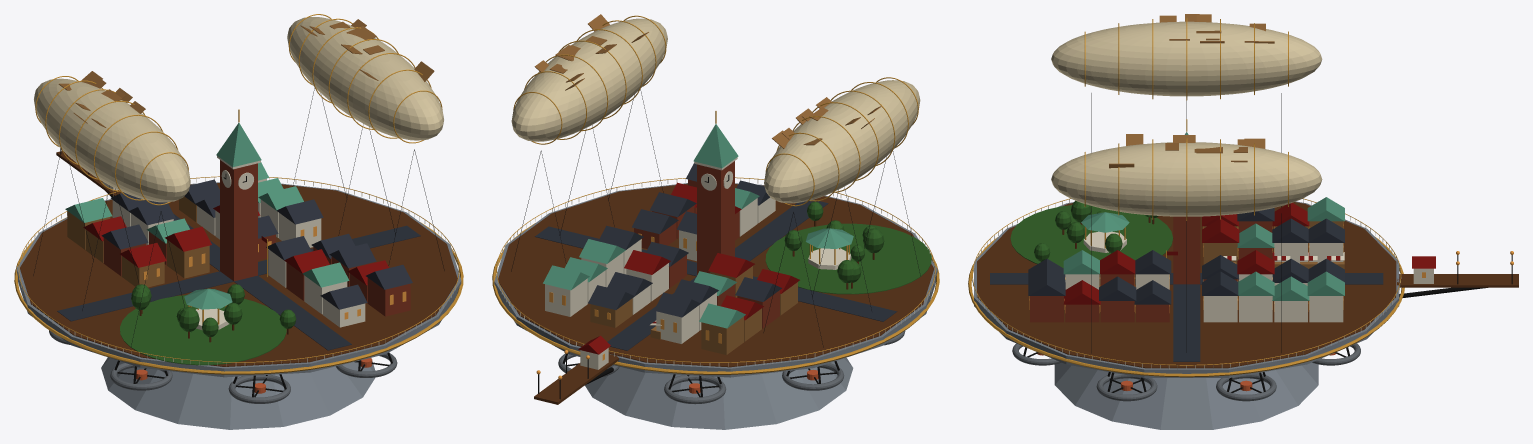
The model's file is station_civil.obj.
3 renders of one model, left to right at view 1: azimuth 30°, elevation 25°; view 2: azimuth 150°, elevation 25°; view 3: azimuth 270°, elevation 25°, orthographic. The views are drawn at different scales.
Parts seen in each view (by area): view 1: station_civil; view 2: station_civil; view 3: station_civil.
Part boxes in pixels (x1,y1,x2,y2): station_civil: [14, 14, 463, 429]; station_civil: [492, 14, 939, 429]; station_civil: [968, 14, 1518, 429].
Size of the model in its own units: 1111 by 842 by 1400.
1 material, 1 textured.
